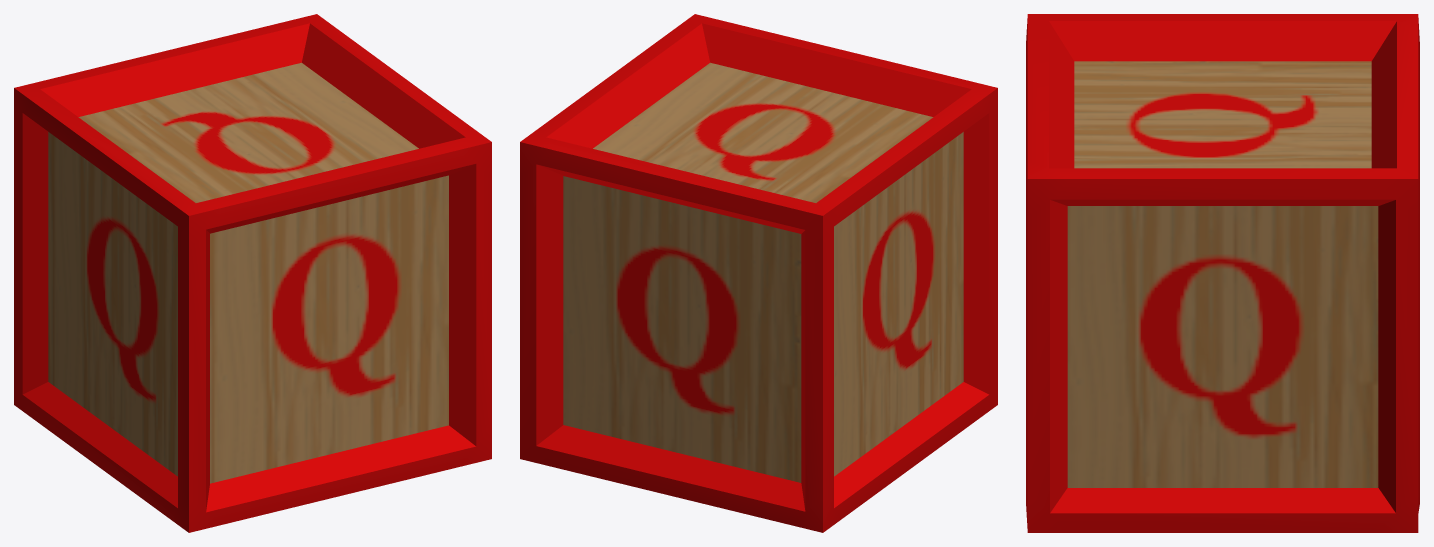
The model's file is Letter_Q.fbx.
3 renders of one model, left to right at view 1: azimuth 30°, elevation 25°; view 2: azimuth 150°, elevation 25°; view 3: azimuth 270°, elevation 25°, orthographic. The views are drawn at different scales.
Parts seen in each view (by area): view 1: LetterBlock_Q; view 2: LetterBlock_Q; view 3: LetterBlock_Q.
Boxes of the visible parts, box(x1,y1,x2,y2) form: LetterBlock_Q: box(14, 14, 491, 532); LetterBlock_Q: box(520, 14, 997, 532); LetterBlock_Q: box(1026, 14, 1419, 532).
Size of the model in its own units: 0.1209 by 0.1213 by 0.121.
Materials: 1 (1 with a texture image).
